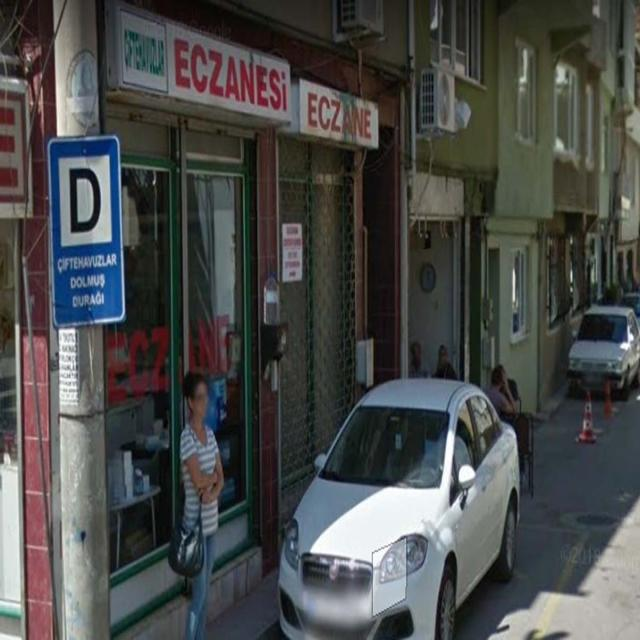durak: (49, 140, 125, 328)
